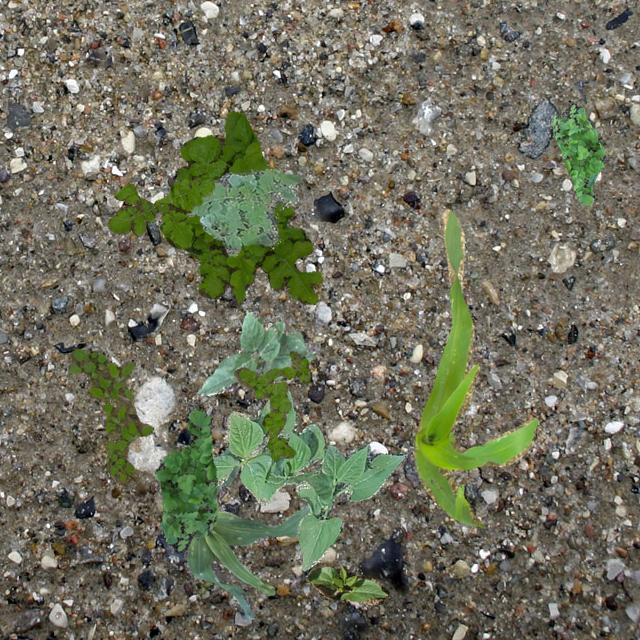crop: (412, 208, 538, 526), (212, 386, 406, 570), (182, 464, 310, 618), (196, 312, 314, 394), (304, 564, 388, 604)
weed: (162, 110, 320, 306), (68, 348, 152, 486), (184, 168, 300, 255), (154, 404, 216, 552), (232, 350, 310, 460), (105, 176, 214, 248), (550, 102, 606, 205)
